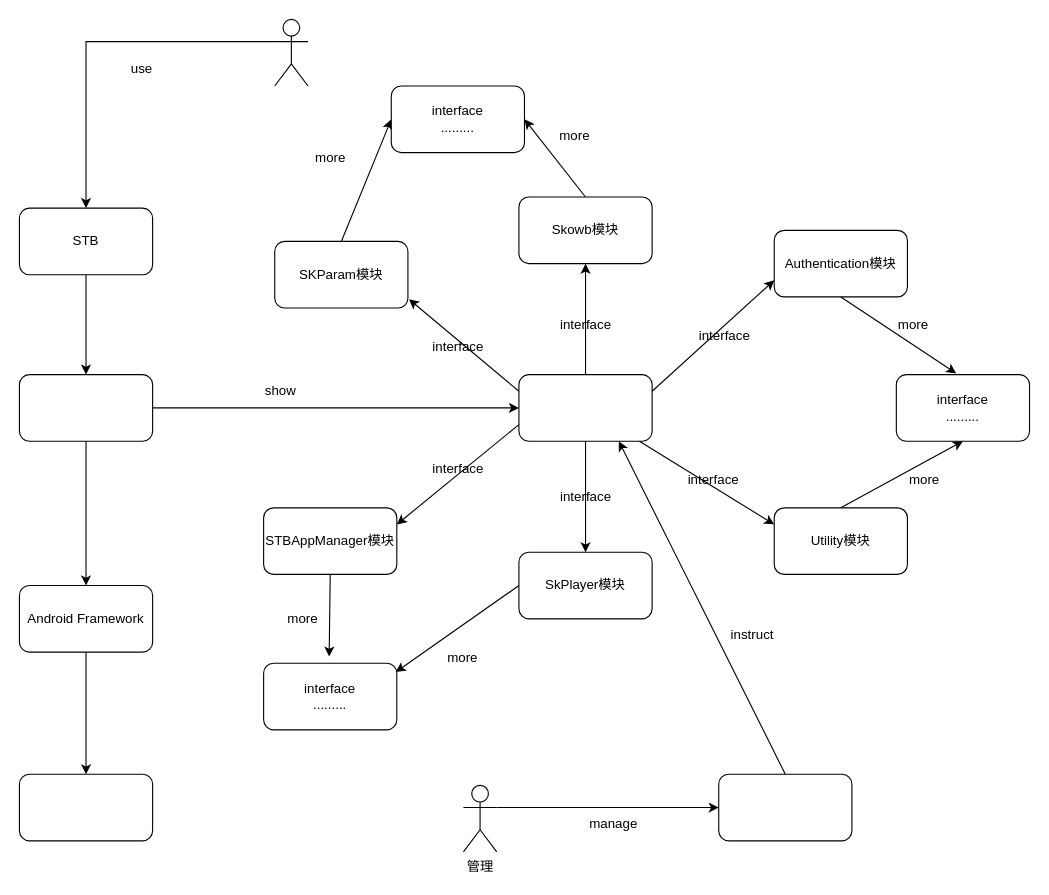
This 1049x895 diagram has some shape labels left out. Here are the shapes that lost their labels. From the top down, the centre of each, then its label:
At point 291,52: "用户".
At point 85,407: "IPTV".
At point 585,407: "EPG WEB".
At point 85,807: "STB Hardware".
At point 785,807: "ISEE".
